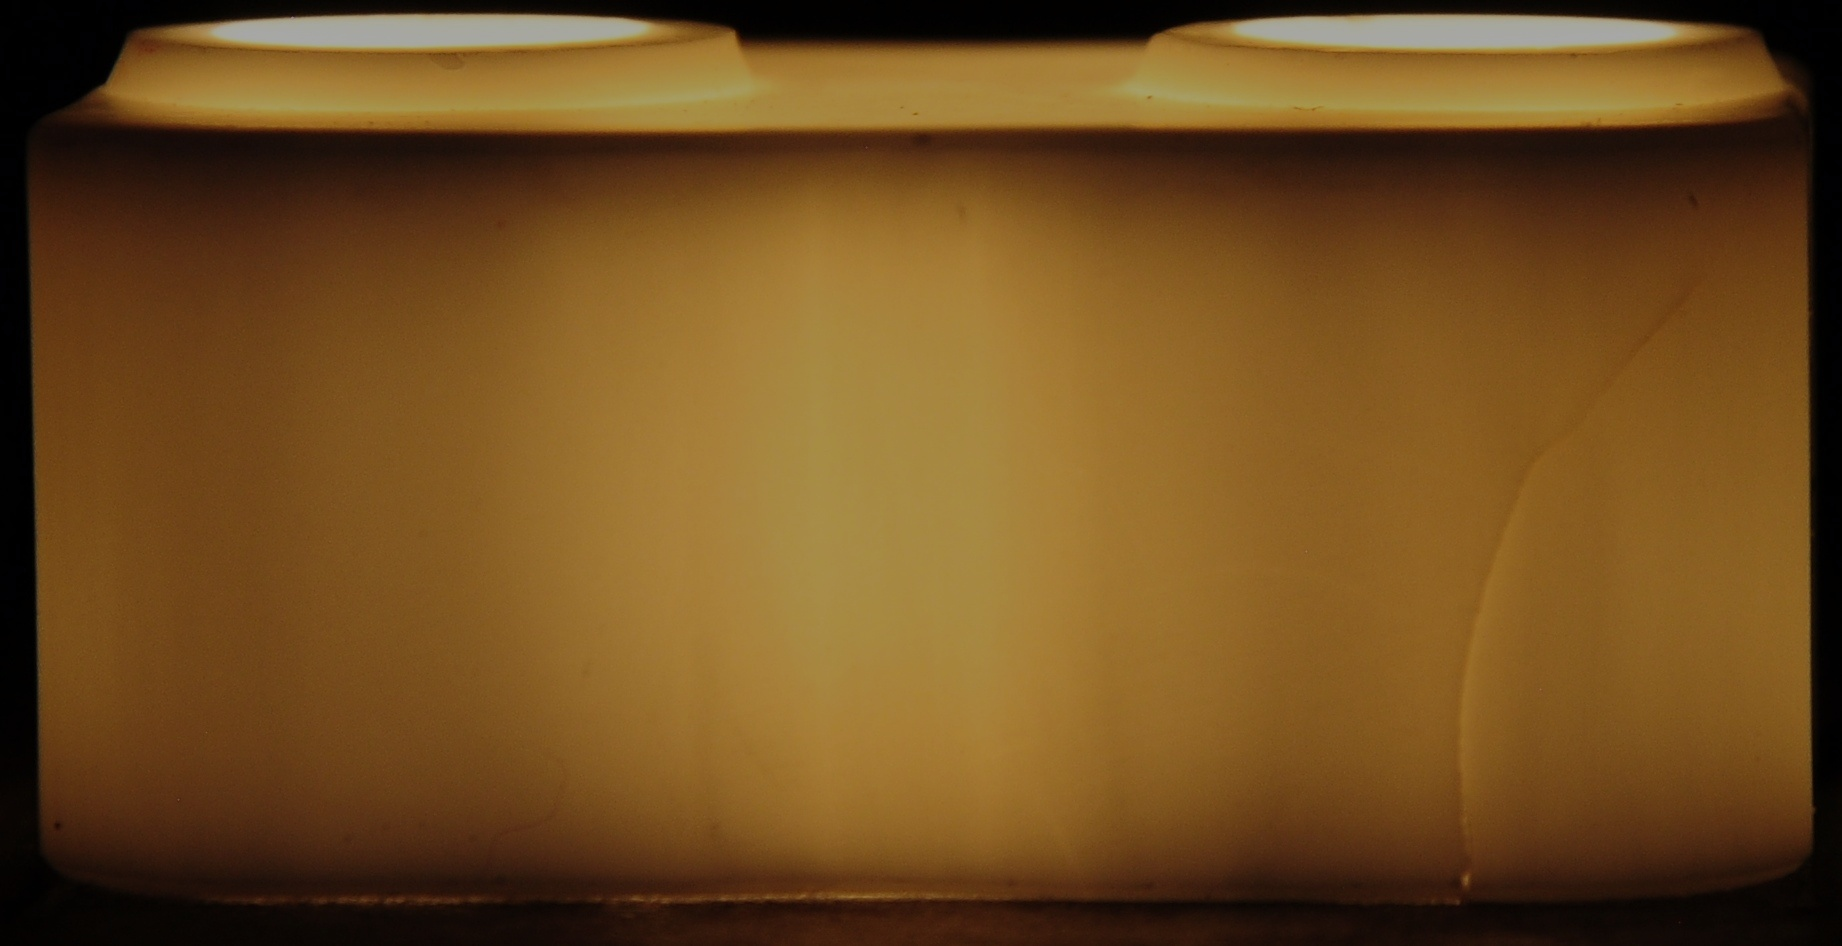flaw: (1439, 436, 1507, 909), (1546, 362, 1619, 478), (1508, 379, 1555, 551), (1612, 288, 1678, 405)
